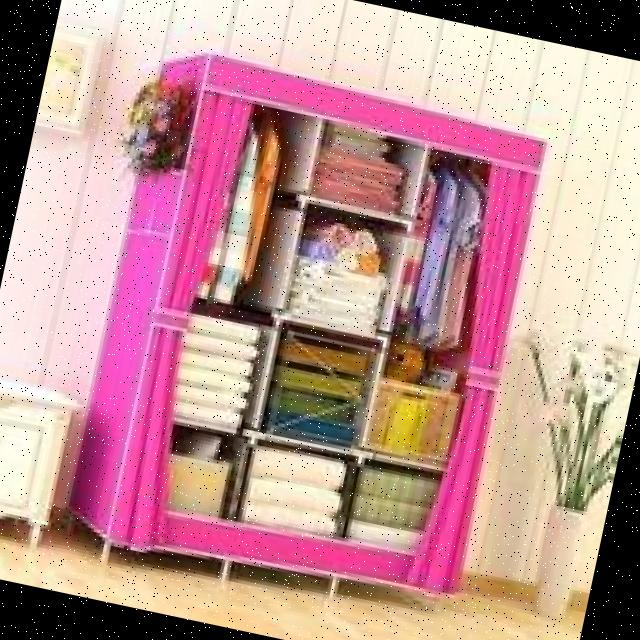Closet: (50, 52, 555, 638)
